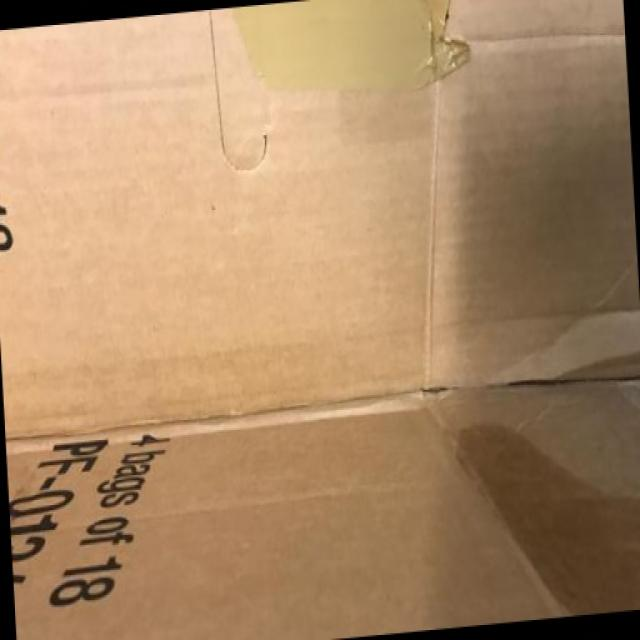carton: (70, 42, 452, 557)
